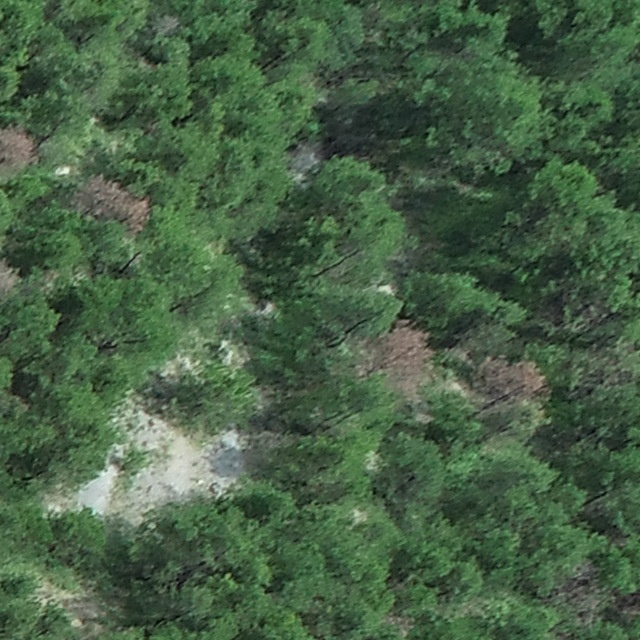unhealthy: (357, 320, 435, 391), (74, 172, 149, 232), (470, 359, 550, 405), (559, 559, 601, 608), (0, 124, 38, 171), (286, 136, 325, 176), (0, 256, 20, 299), (152, 13, 182, 36)
